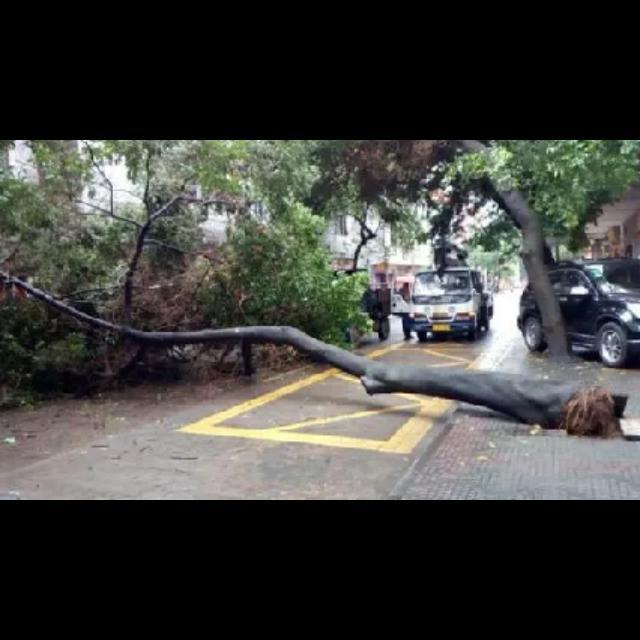fallen_tree: (1, 204, 619, 430)
